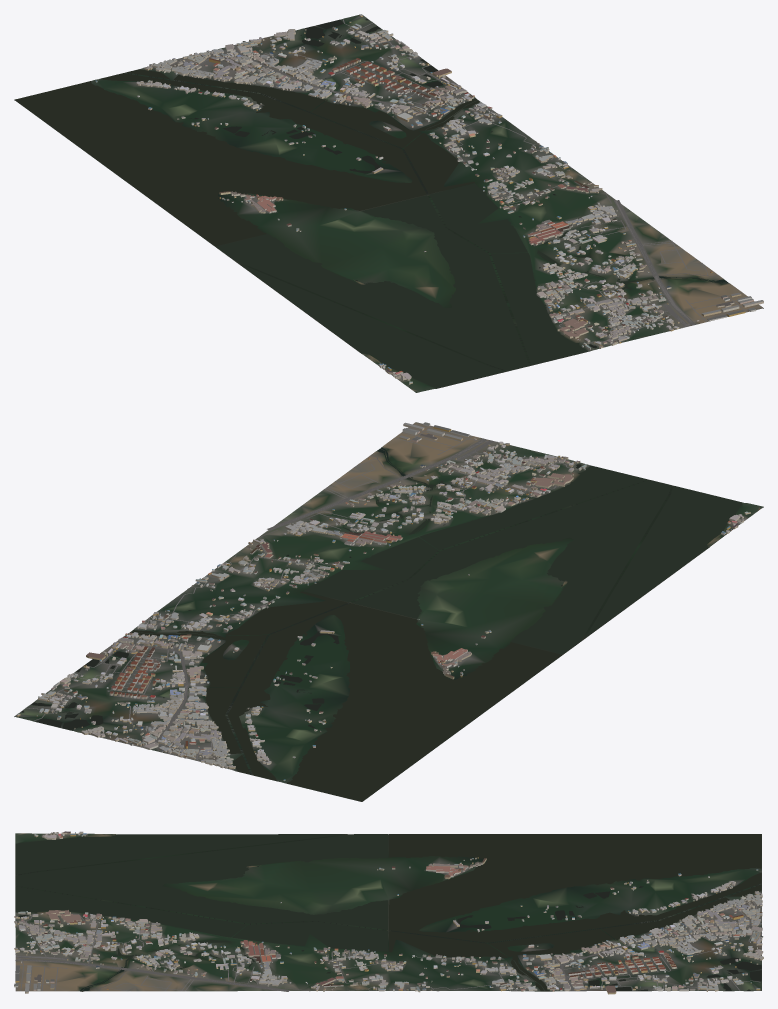
3 views of the same model, one above another, from view 1: azimuth 30°, elevation 25°; view 2: azimuth 150°, elevation 25°; view 3: azimuth 270°, elevation 25° (orthographic). The views are drawn at different scales.
Parts seen in each view (by area): view 1: water, ground, buildings, roads; view 2: water, ground, buildings, roads; view 3: water, ground, buildings, roads.
Boxes of the visible parts, x1,y1,x2,y2 form: water: [15, 18, 728, 388]; ground: [14, 14, 763, 392]; buildings: [95, 14, 763, 384]; roads: [144, 19, 760, 380]; water: [21, 447, 742, 801]; ground: [14, 422, 763, 801]; buildings: [17, 422, 750, 781]; roads: [26, 424, 745, 769]; water: [15, 834, 761, 991]; ground: [15, 833, 761, 991]; buildings: [14, 831, 763, 994]; roads: [15, 833, 761, 991].
Bounding box in the file's own units: 1432 × 16.66 × 2814.
